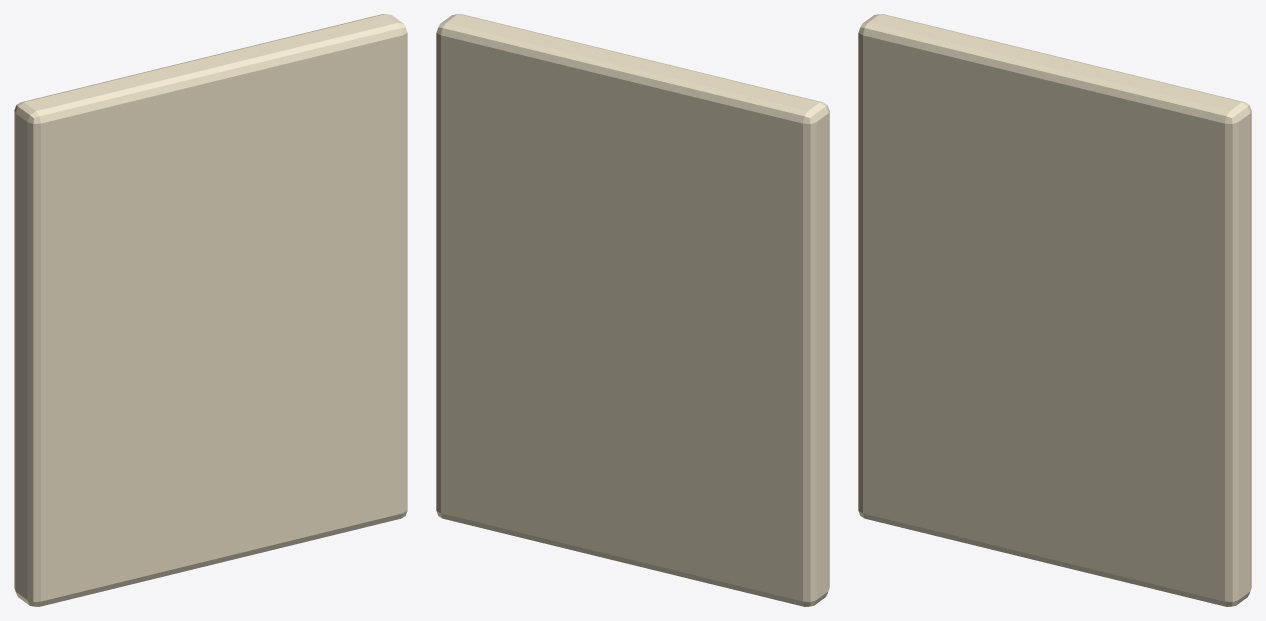
Rendered from FTF_Building_Wall_2m.glb.
3 renders of one model, left to right at view 1: azimuth 30°, elevation 25°; view 2: azimuth 150°, elevation 25°; view 3: azimuth 330°, elevation 25°, orthographic.
Parts seen in each view (by area): view 1: SM_FTF_Building_Wall_2m_Body; view 2: SM_FTF_Building_Wall_2m_Body; view 3: SM_FTF_Building_Wall_2m_Body.
Part boxes in pixels (x1,y1,x2,y2): SM_FTF_Building_Wall_2m_Body: (14,14,407,606); SM_FTF_Building_Wall_2m_Body: (436,14,829,606); SM_FTF_Building_Wall_2m_Body: (858,14,1251,606).
Size of the model in its own units: 2 by 2.5 by 0.2.
